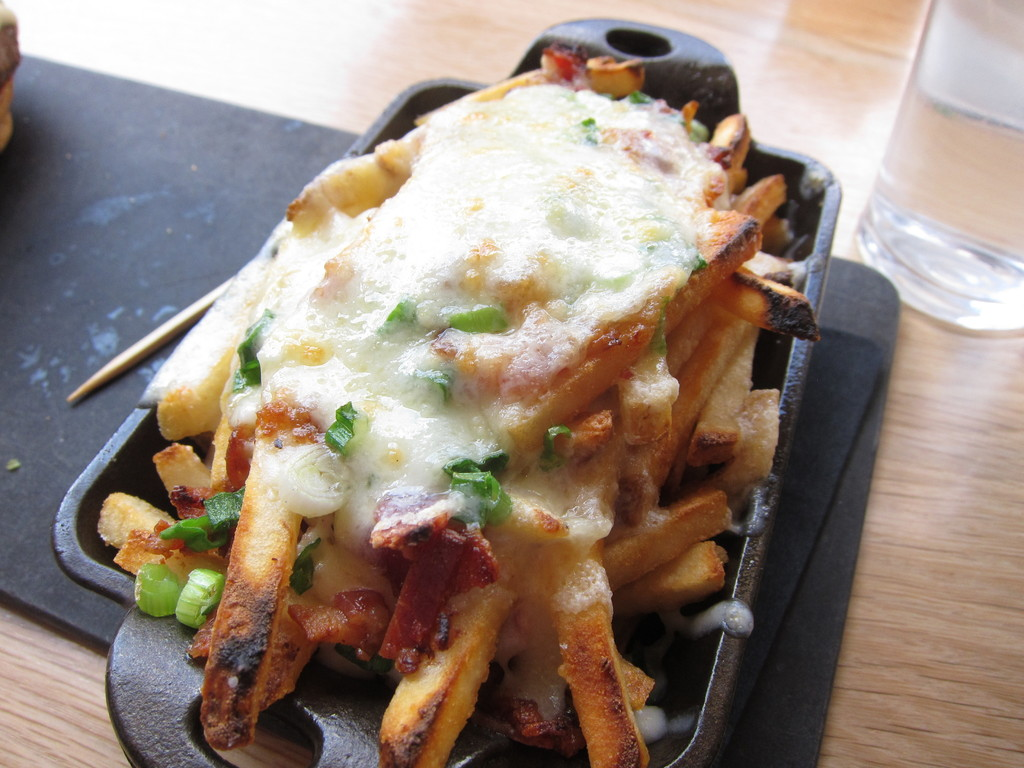French fries: (97, 51, 819, 767)
